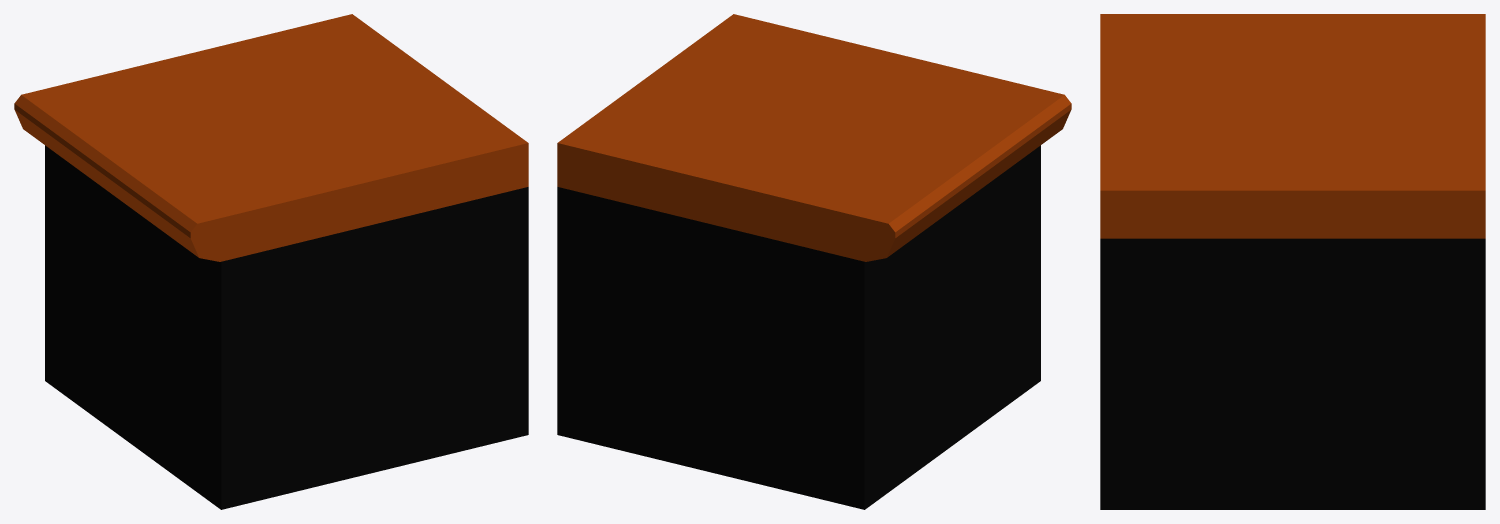
Rendered from kitchin_stand.gltf.
The picture shows the model from 3 angles, left to right: view 1: azimuth 30°, elevation 25°; view 2: azimuth 150°, elevation 25°; view 3: azimuth 270°, elevation 25°; orthographic projection. The views are drawn at different scales.
Visible parts, largest first — view 1: Cube.024; view 2: Cube.024; view 3: Cube.024.
Boxes of the visible parts, bbox=[...] form: Cube.024: bbox=[14, 14, 528, 509]; Cube.024: bbox=[557, 14, 1071, 509]; Cube.024: bbox=[1100, 14, 1485, 509].
Size of the model in its own units: 3.9 by 3.22 by 3.52.
